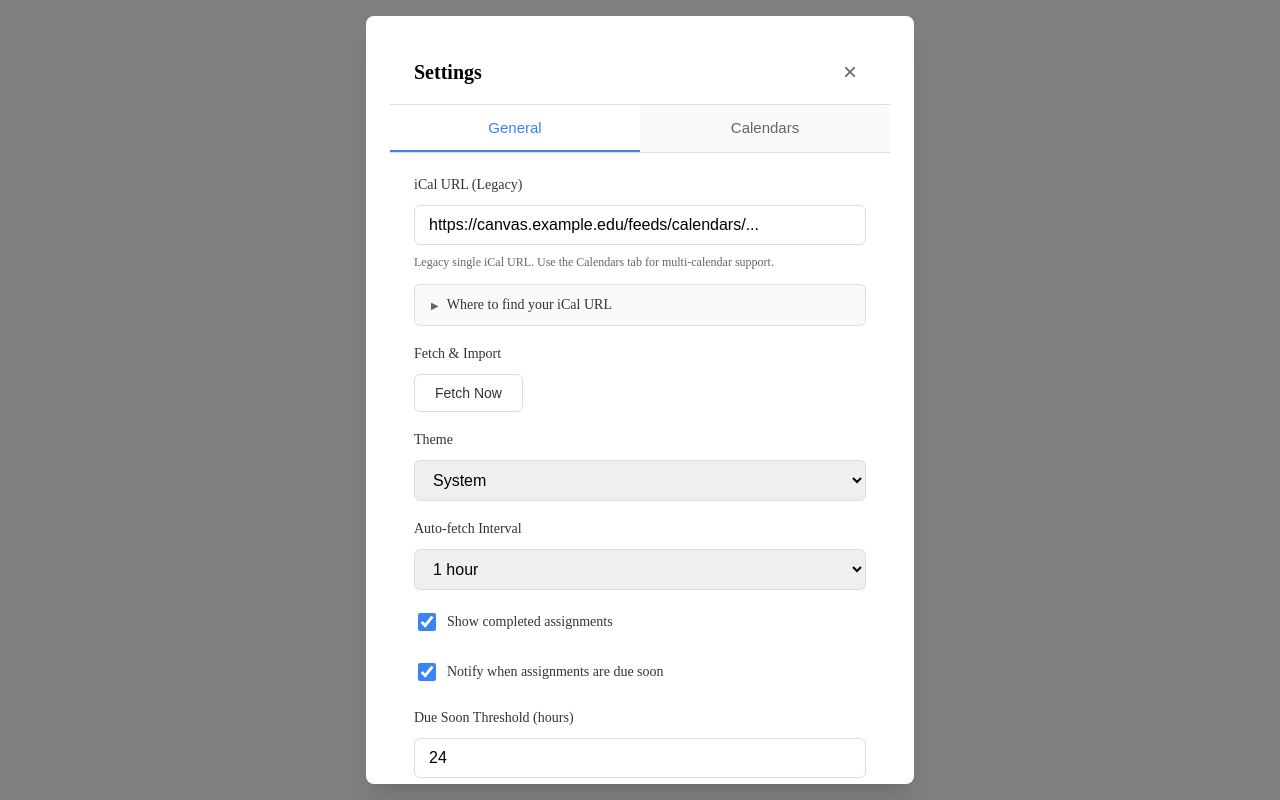
Test case: SettingsModal › Fetch Now › shows error message on fetch failure
Check: the dialog is shown, box [366,16,914,784]
Check: the dropdown labelled "Theme" shows "System", box [414,460,866,501]
Click the button "Fetch Now": x=468, y=393 [414,374,523,412]
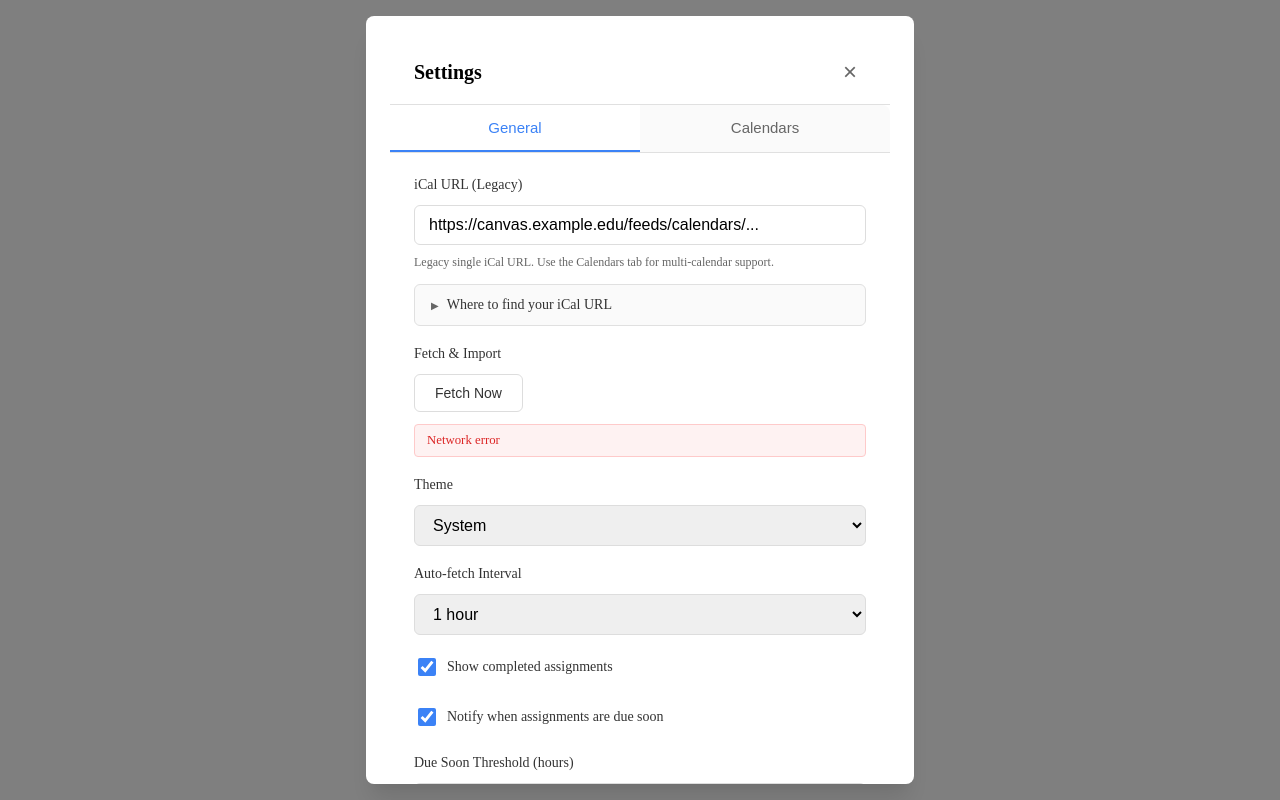
Check: the text "Network error" is shown, box [414,424,866,457]
